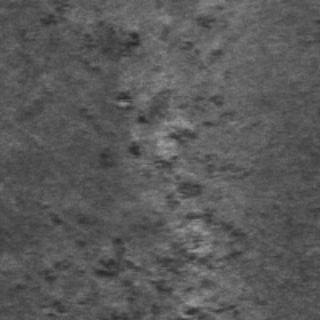rolled pit: (37, 198, 257, 318), (111, 64, 227, 210), (150, 0, 232, 80), (74, 16, 142, 72)
